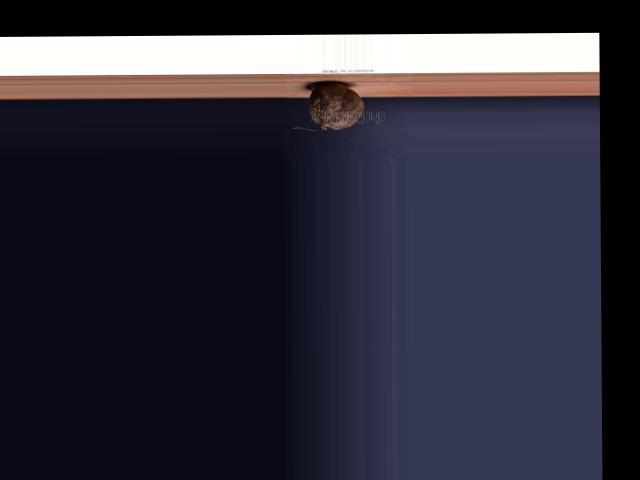beet: (290, 82, 363, 130)
